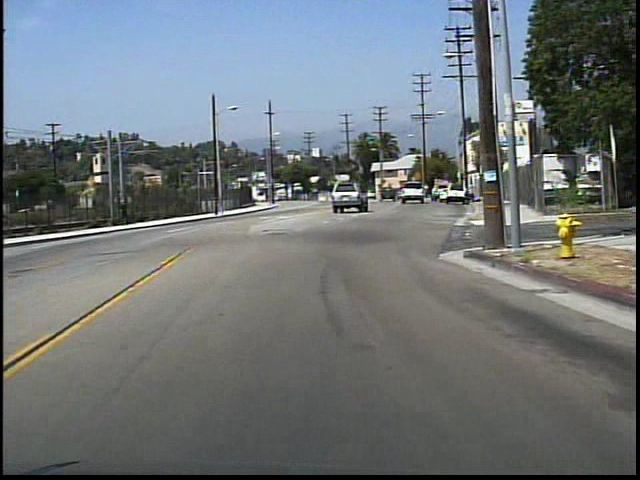person: (120, 195, 134, 227)
